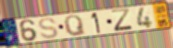1: (90, 12, 103, 35)
4: (136, 6, 154, 29)
6: (18, 18, 39, 43)
Q: (63, 14, 87, 37)
S: (37, 17, 60, 40)
Z: (110, 7, 135, 33)
